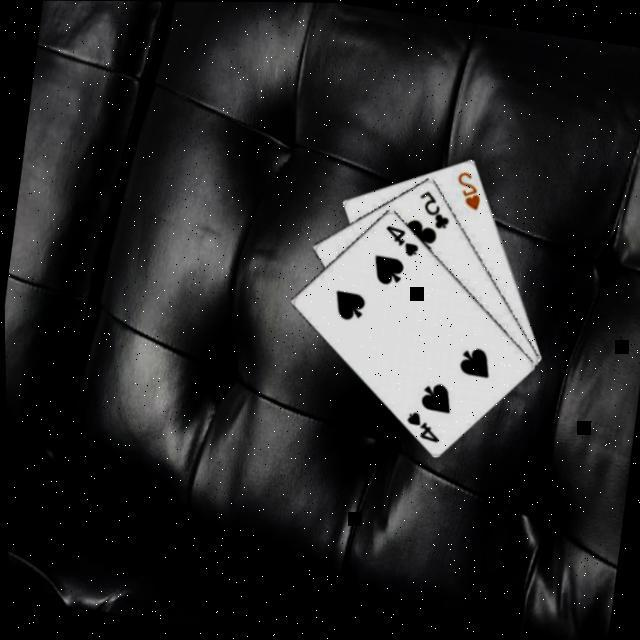2H: (451, 164, 488, 210)
4S: (379, 218, 424, 258), (401, 404, 445, 444)
5C: (413, 183, 457, 230)
